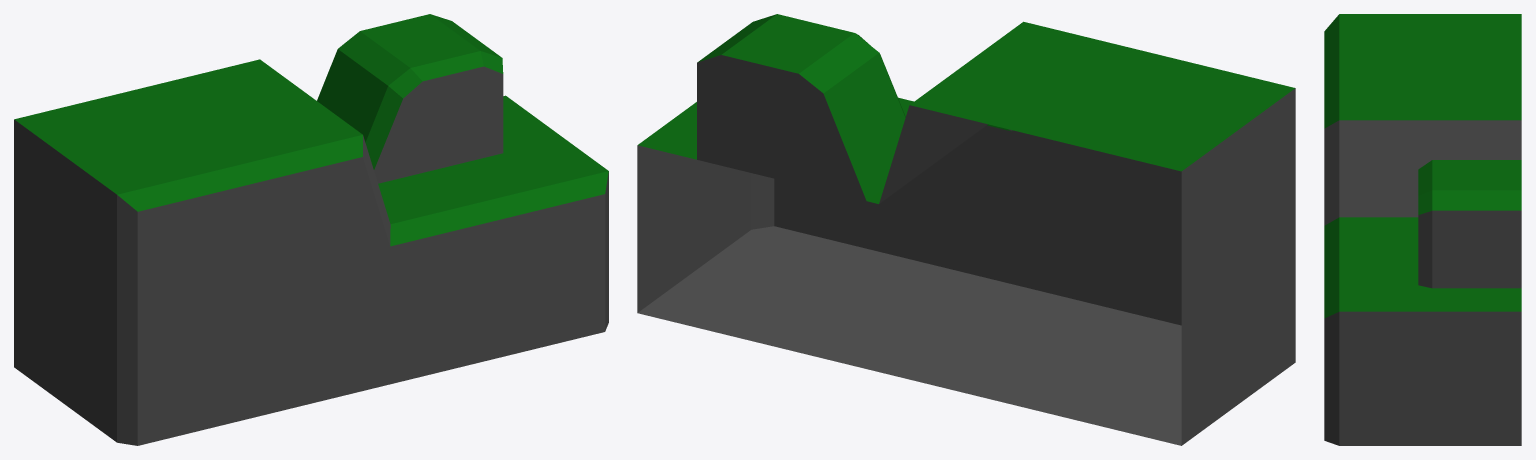
File: Hill2.fbx
3 renders of one model, left to right at view 1: azimuth 30°, elevation 25°; view 2: azimuth 150°, elevation 25°; view 3: azimuth 270°, elevation 25°, orthographic. The views are drawn at different scales.
Parts seen in each view (by area): view 1: Hill2; view 2: Hill2; view 3: Hill2.
Part boxes in pixels (left/top/right/bottom): Hill2: left=14, top=14, right=608, bottom=445; Hill2: left=637, top=14, right=1295, bottom=445; Hill2: left=1324, top=14, right=1521, bottom=445.
Bounding box in the file's own units: 1310 × 641 × 514.
